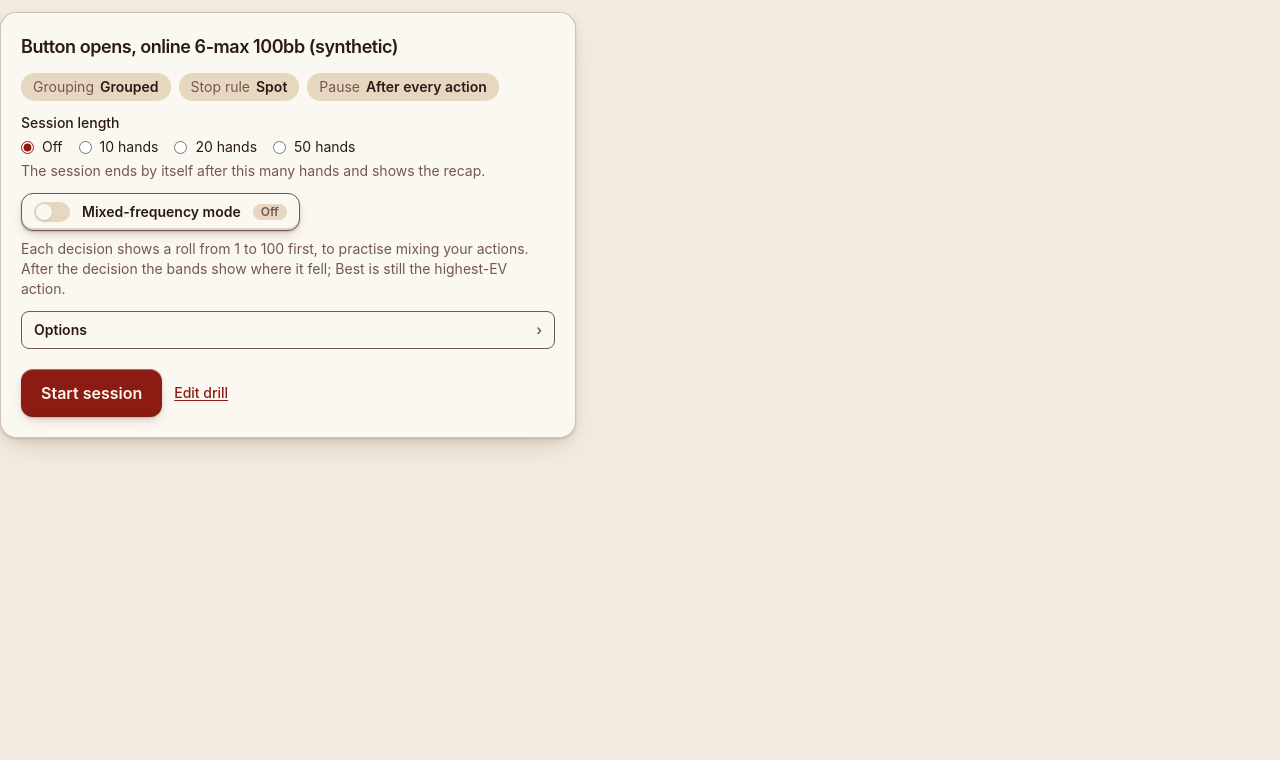
Test case: R3.13 decision requests › R3.13 a fixed 400 on a decision offers End, not Try again
Expected: the heading "Button opens, online 6-max 100bb (synthetic)" is shown, x1=21 y1=33 x2=398 y2=61
Click the button "Start session".
click(92, 393)  # box x1=21 y1=369 x2=162 y2=417
(page scrolled)
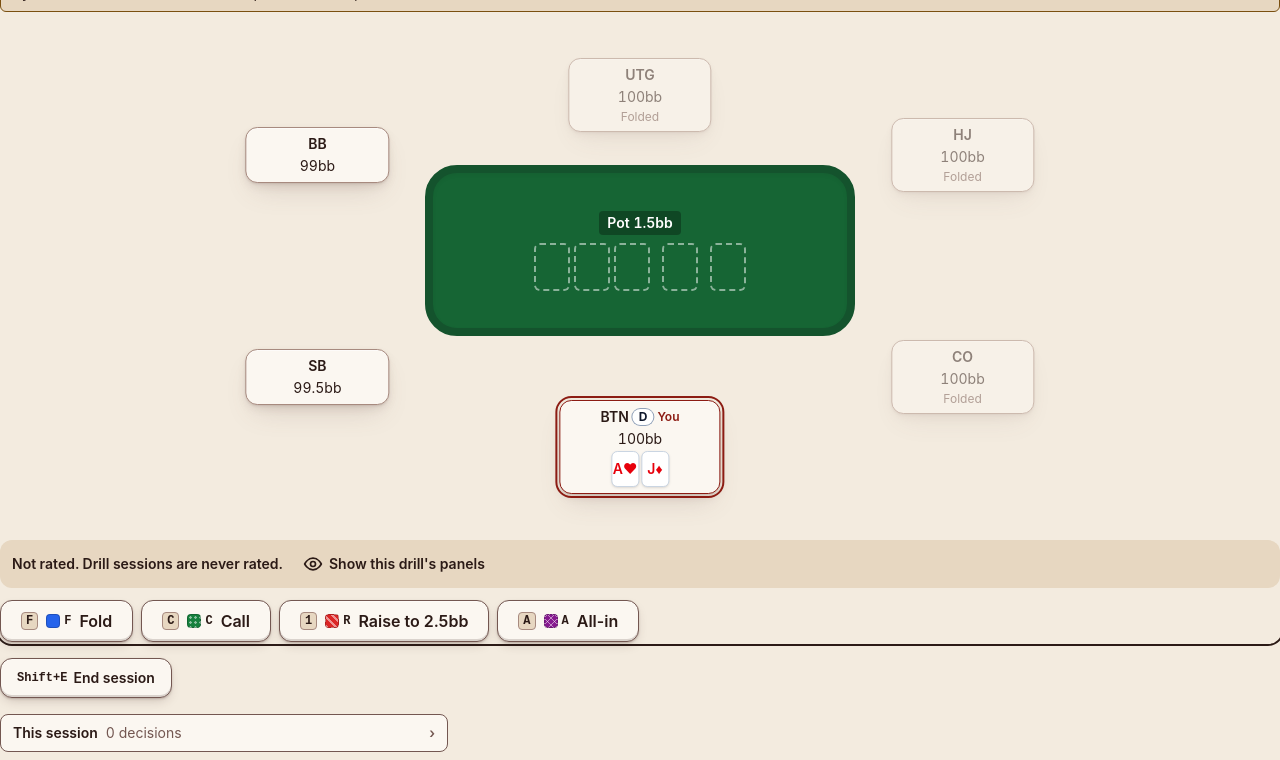
Expected: the element named "Actions" is shown, x1=0 y1=600 x2=639 y2=642
Click the button "1 R Raise to 2.5bb".
click(384, 621)  # box x1=279 y1=600 x2=489 y2=642
(page scrolled)
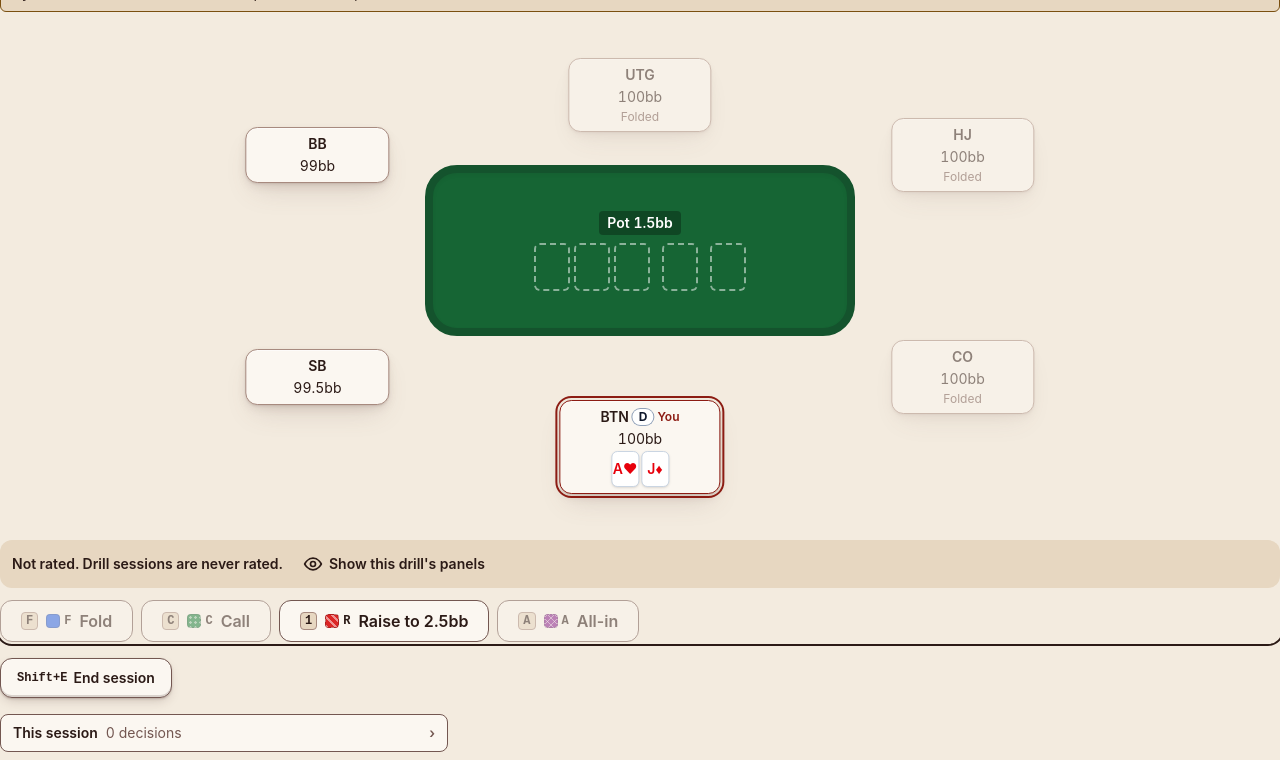
Click the button "Shift+E End session".
click(86, 678)  # box x1=0 y1=658 x2=172 y2=698
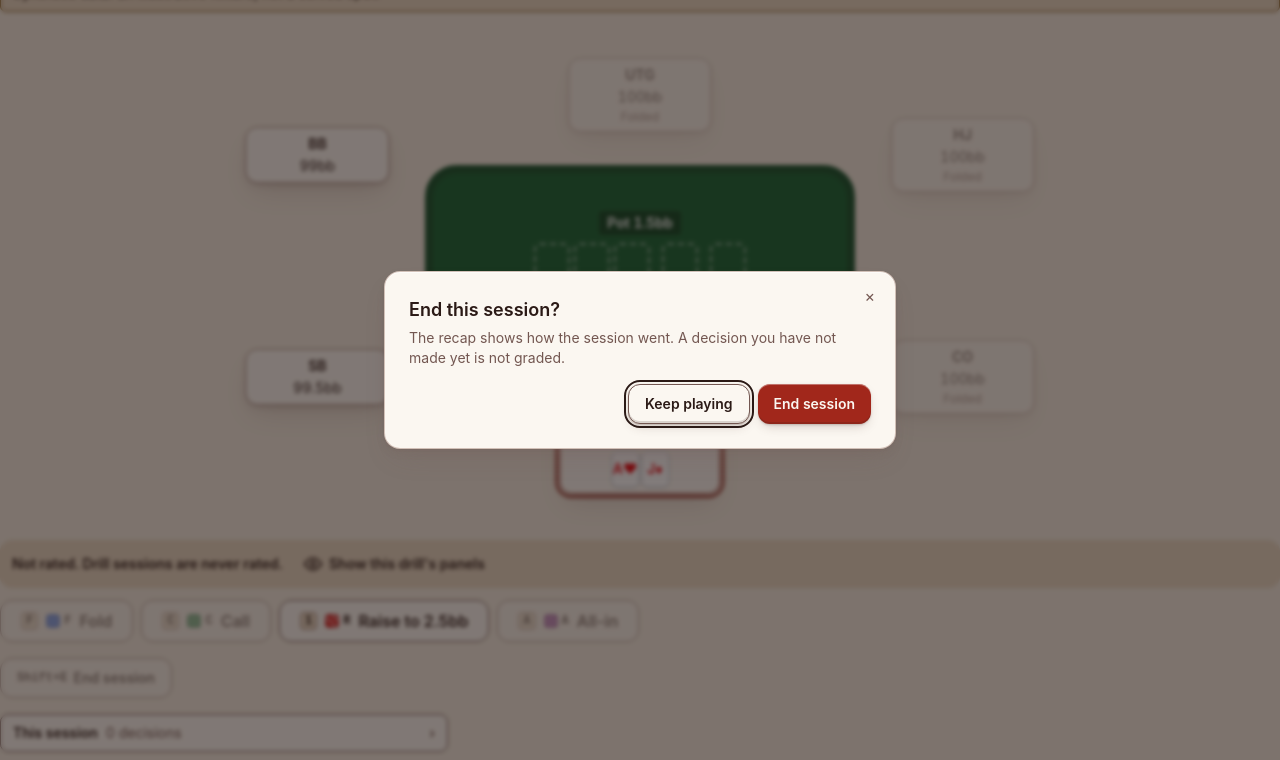
Click the button "End session".
click(814, 404)  # box x1=758 y1=384 x2=871 y2=424
(page scrolled)
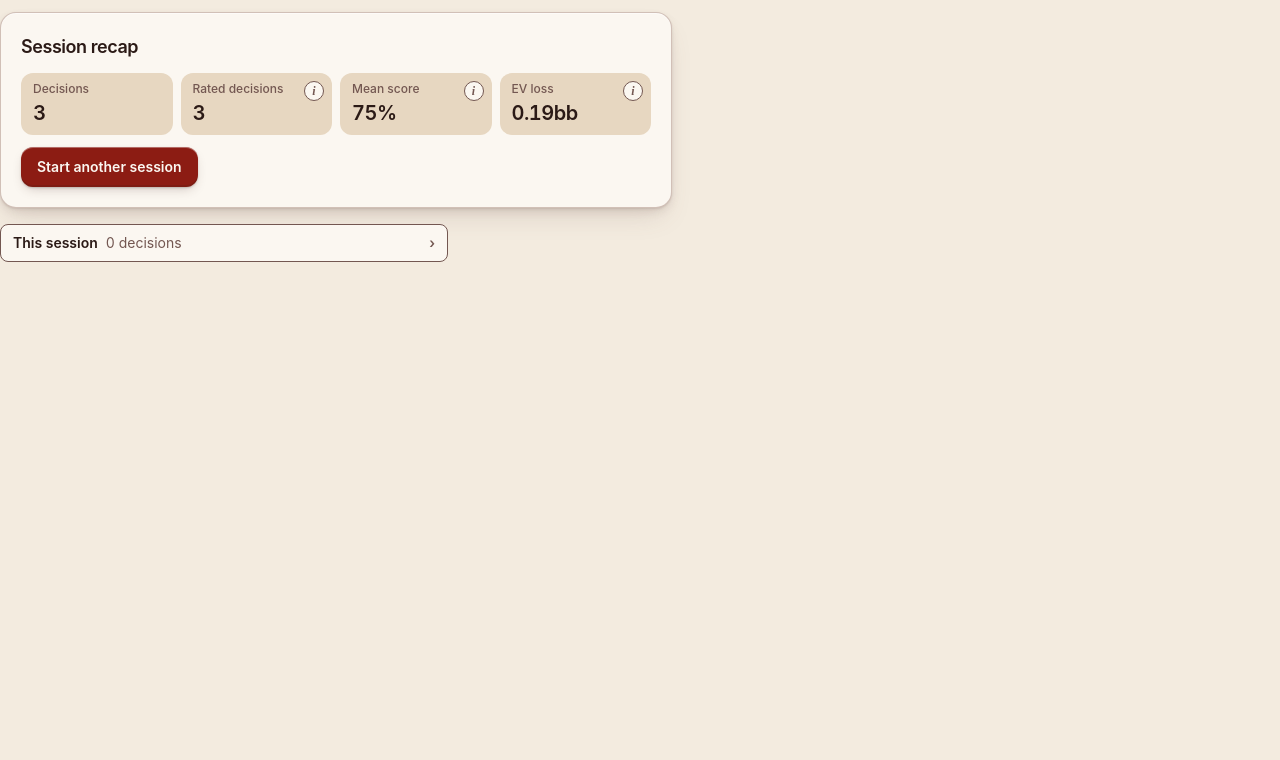
Expected: the heading "Session recap" is shown, x1=21 y1=33 x2=138 y2=61
